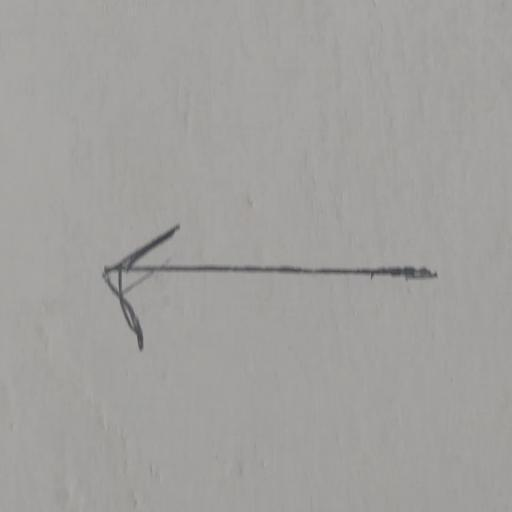stain: (87, 214, 459, 369)
